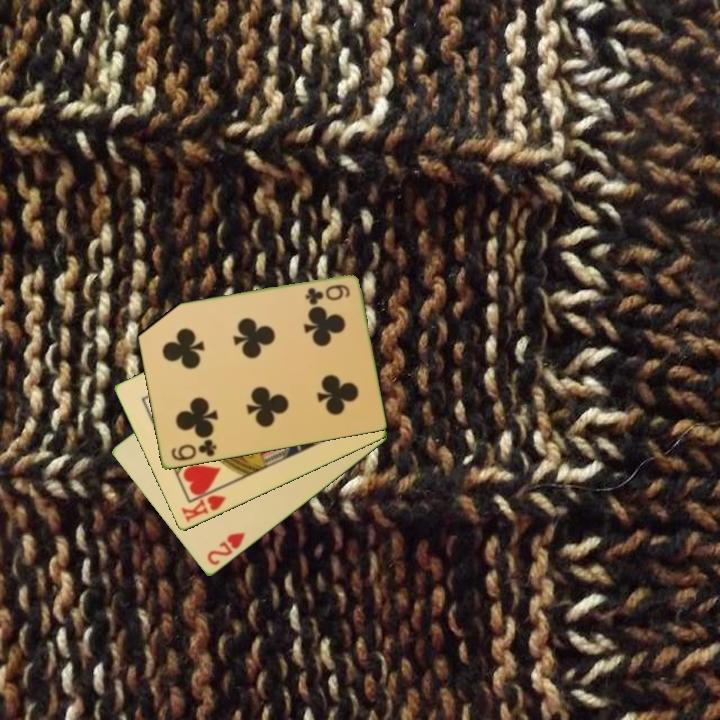2h: (203, 529, 248, 569)
6c: (167, 436, 219, 464), (301, 281, 352, 306)
Kh: (177, 483, 229, 525)
